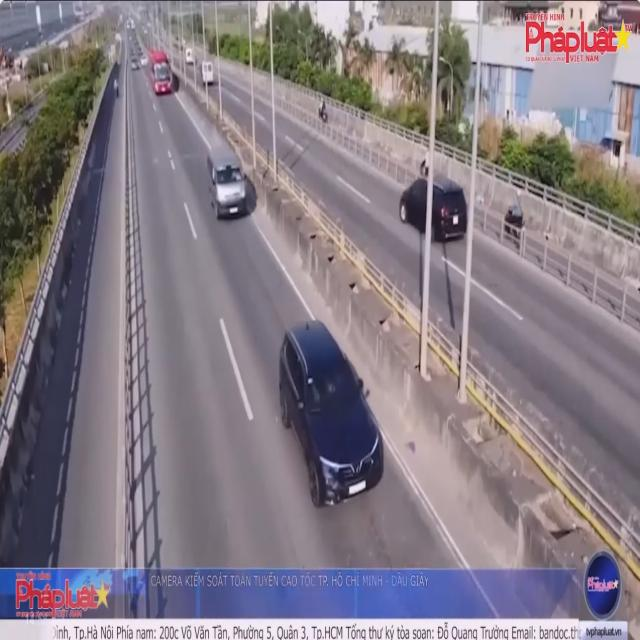bus: (149, 47, 173, 96)
car: (276, 325, 383, 508), (398, 168, 468, 246), (210, 157, 257, 219)
motorbike: (501, 192, 524, 242)
